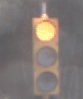Red: (28, 7, 67, 97)
